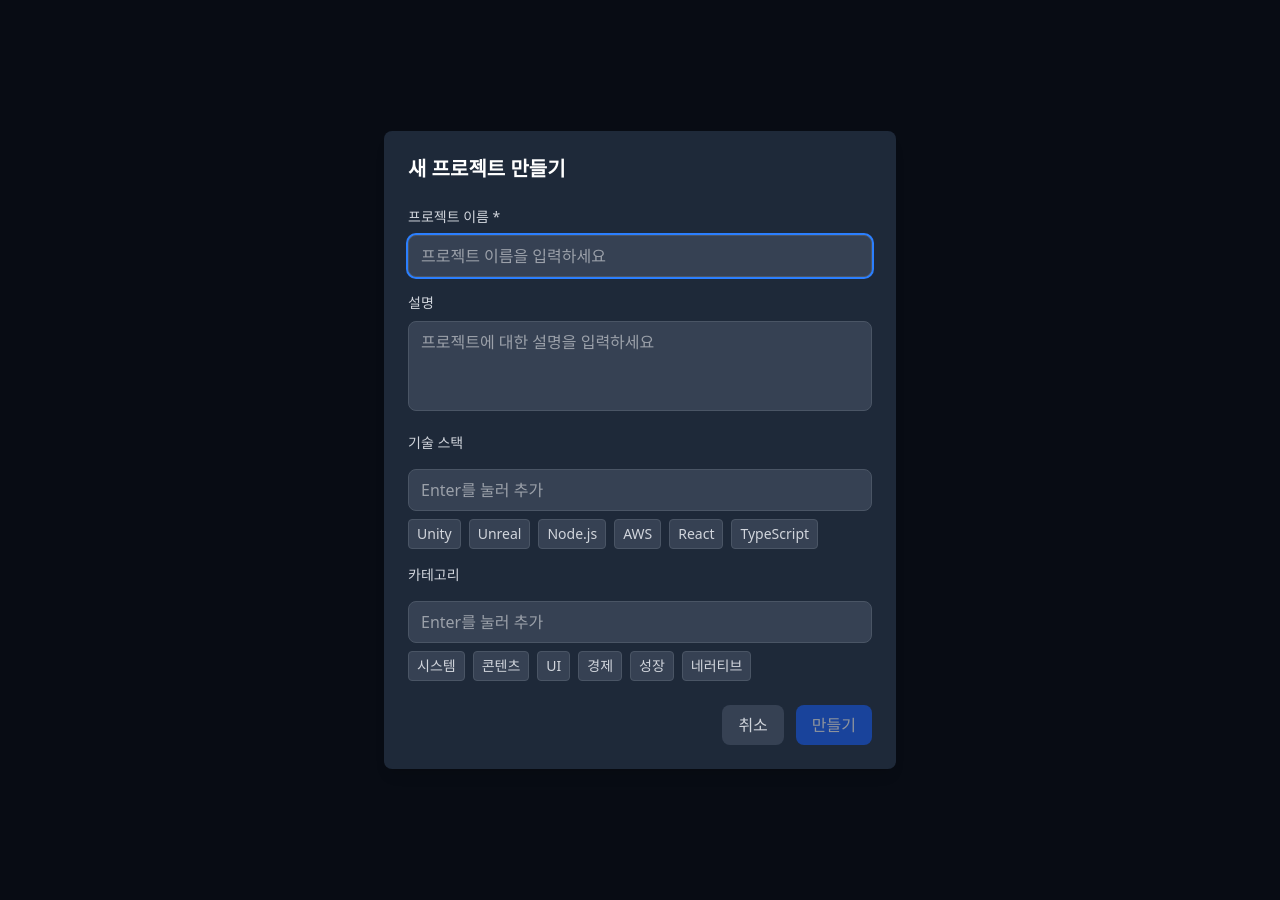
Test: ProjectCreateModal › Tag Input - Categories › should add category tag when pressing Enter
Add category through suggestion button (similar to tech stack test)
Click the button with aria-label "add 시스템" at (436, 666), box [408,651,465,681]
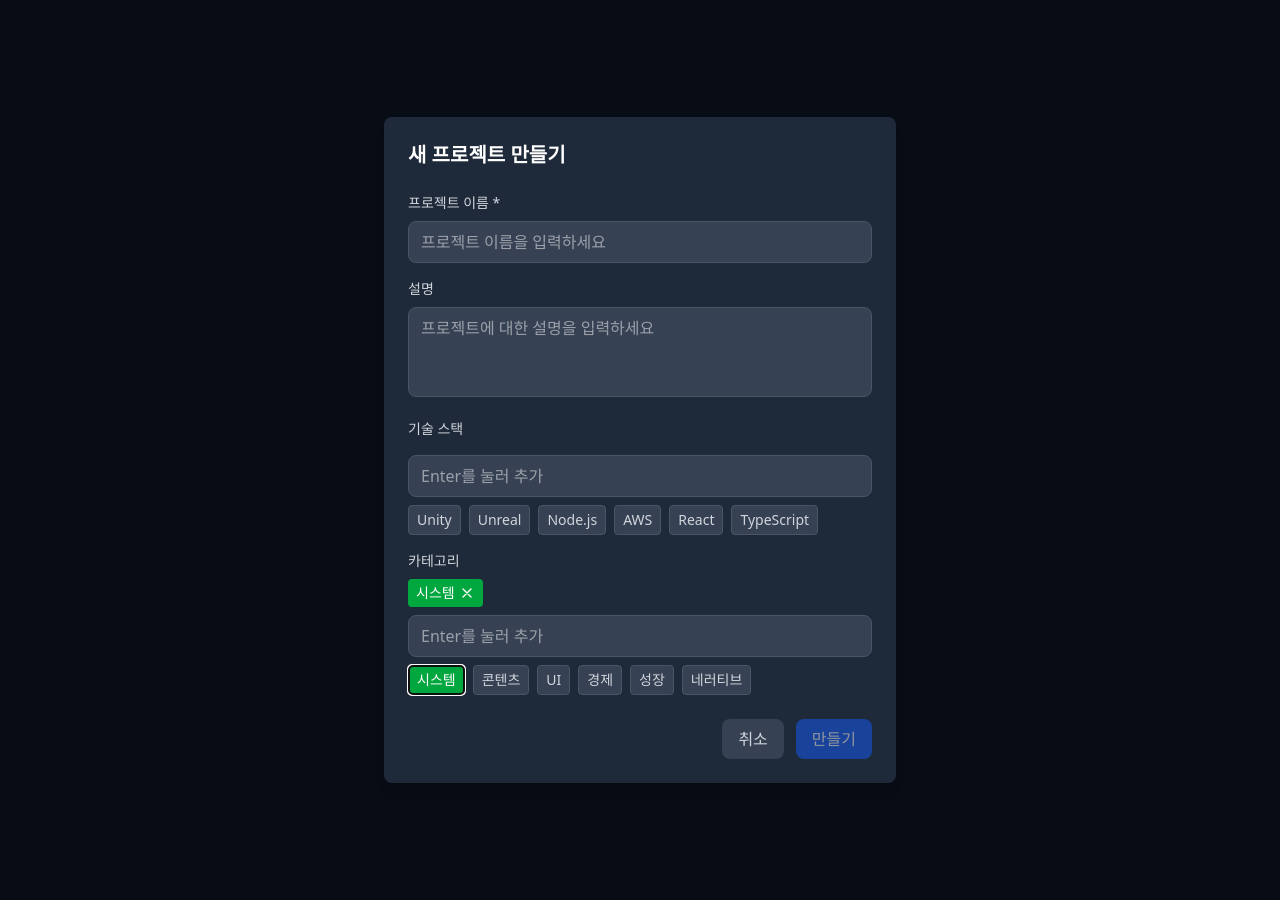
Result: the element with test id "category-tags" reads "시스템" at [416,583,455,602]
